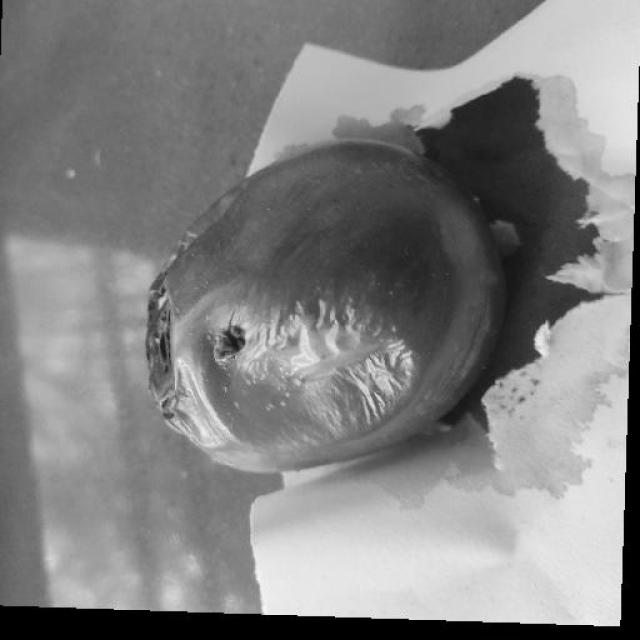Stale_tomato: (125, 174, 486, 456)
